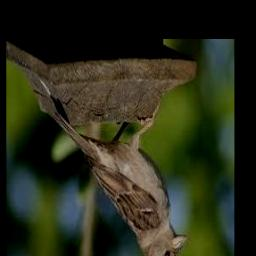Sparrow: (55, 108, 186, 256)
